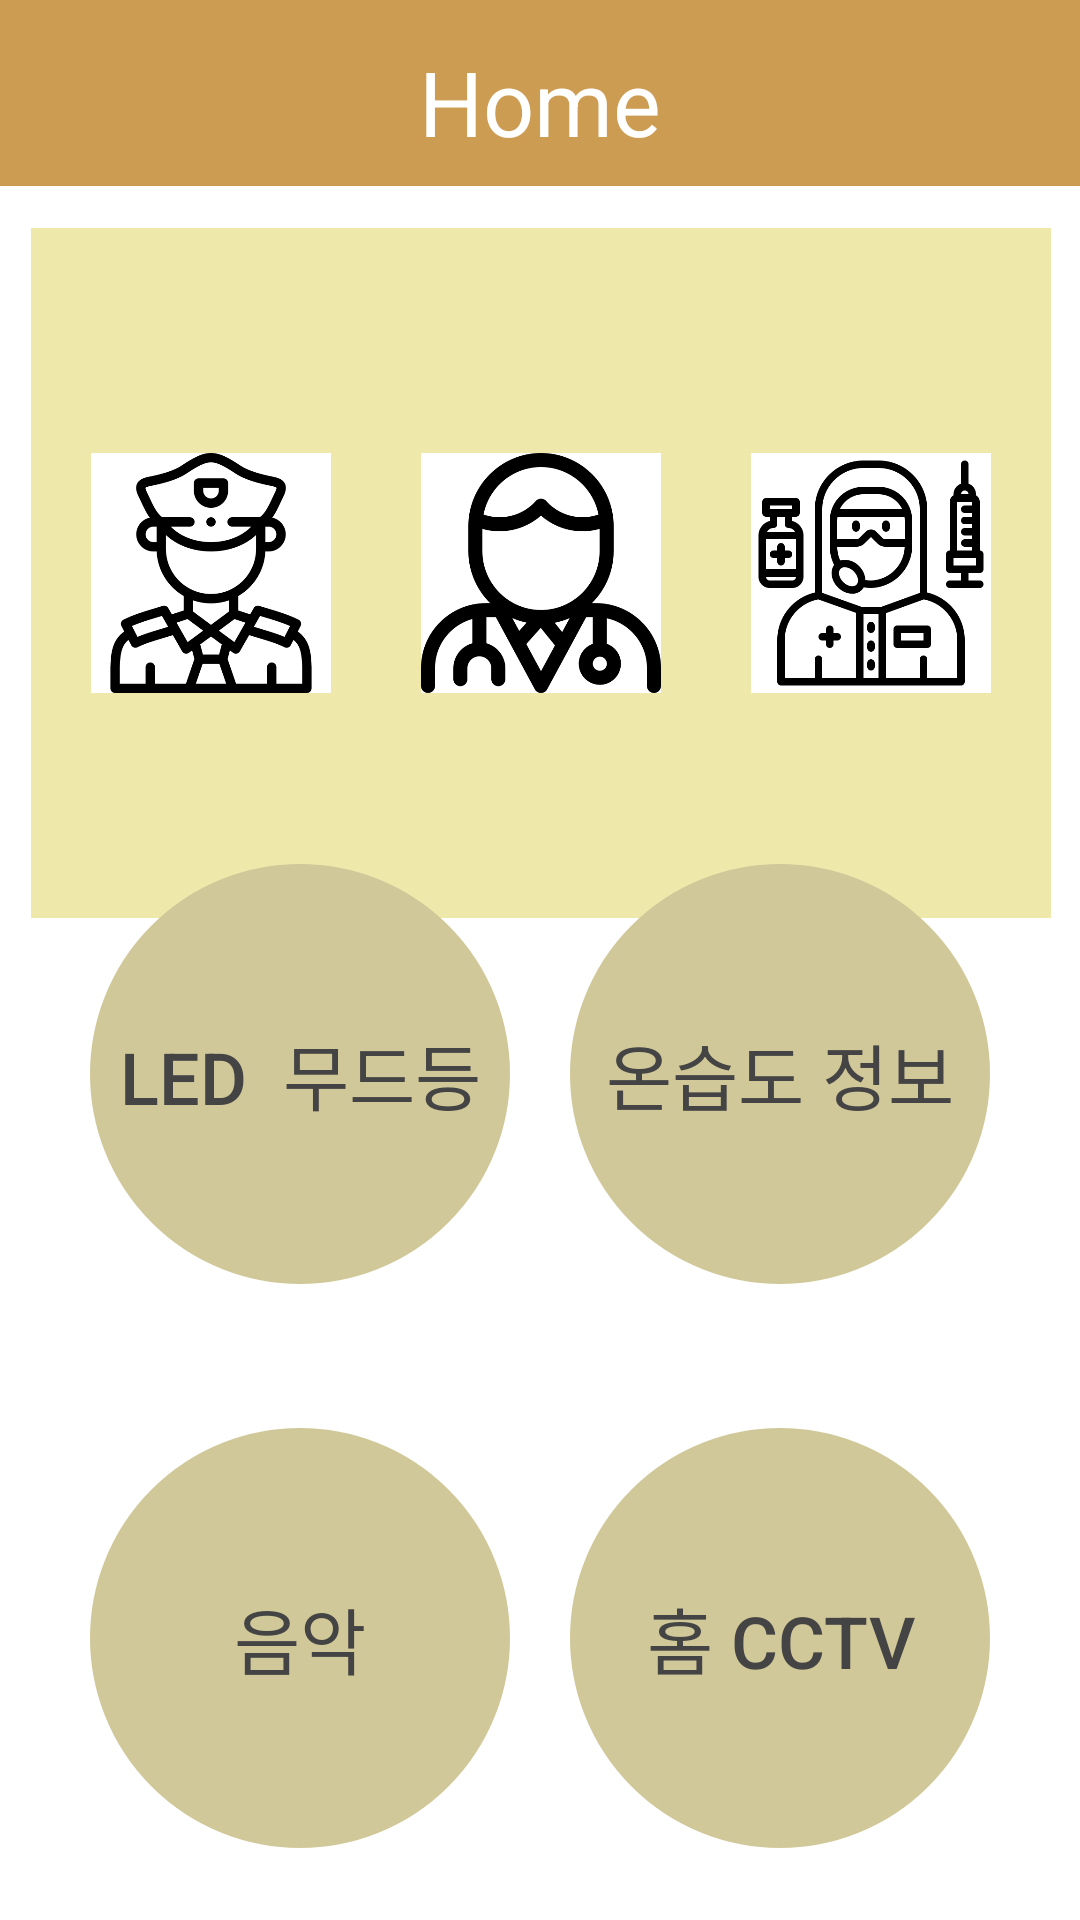

Where to tap for icons on this 1080px x 1920px app screen, as (x,y):
doctor: (541,573)
police: (211,573)
vaccine: (871,573)
